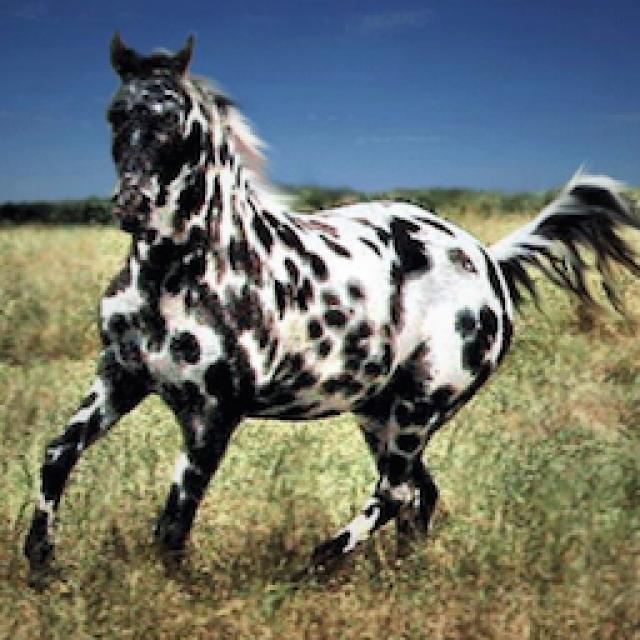Horse: (10, 25, 638, 593)
